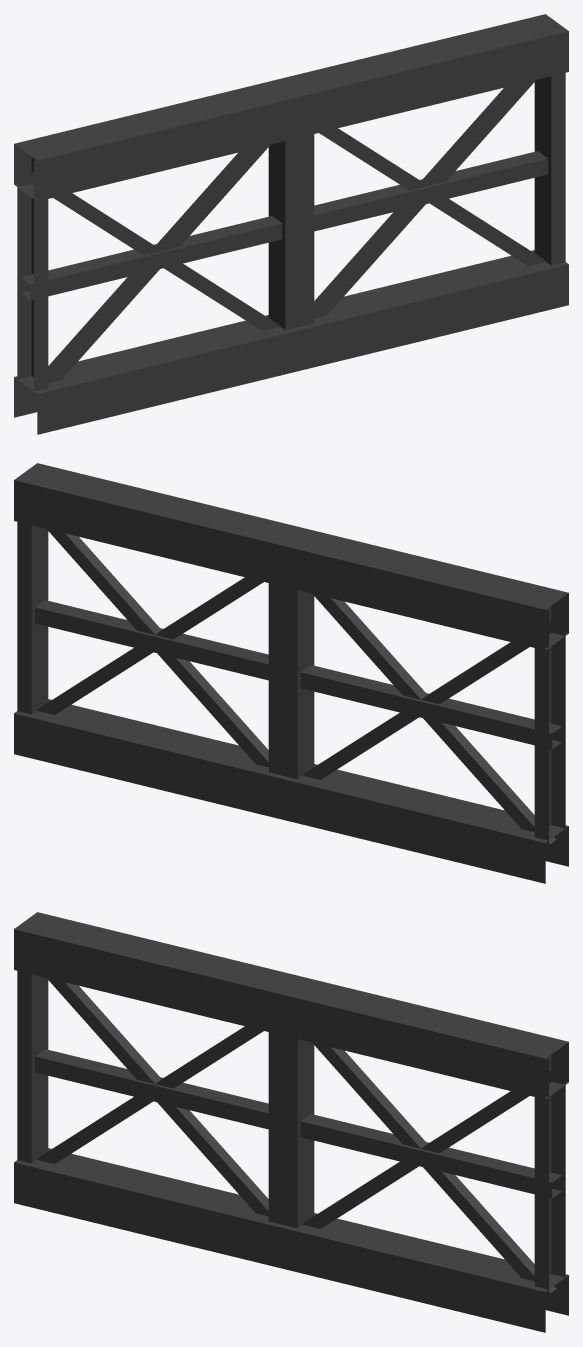
The model's file is tile_platform_014.fbx.
The picture shows the model from 3 angles, top to bottom: view 1: azimuth 30°, elevation 25°; view 2: azimuth 150°, elevation 25°; view 3: azimuth 330°, elevation 25°; orthographic projection.
Visible parts, largest first — view 1: tile_platform_014; view 2: tile_platform_014; view 3: tile_platform_014.
Part boxes in pixels (x1,y1,x2,y2): tile_platform_014: (14,14,568,434); tile_platform_014: (14,463,568,883); tile_platform_014: (14,912,568,1332).
Size of the model in its own units: 400 by 30.45 by 197.
